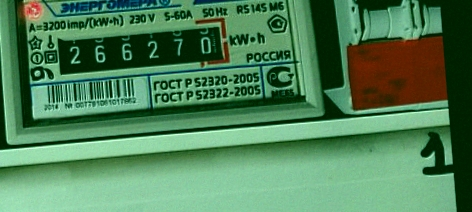0: (198, 34, 212, 56)
2: (66, 44, 82, 66), (145, 39, 159, 61)
6: (118, 42, 133, 62), (93, 44, 107, 65)
7: (170, 37, 185, 59)
screen: (46, 14, 237, 85)
